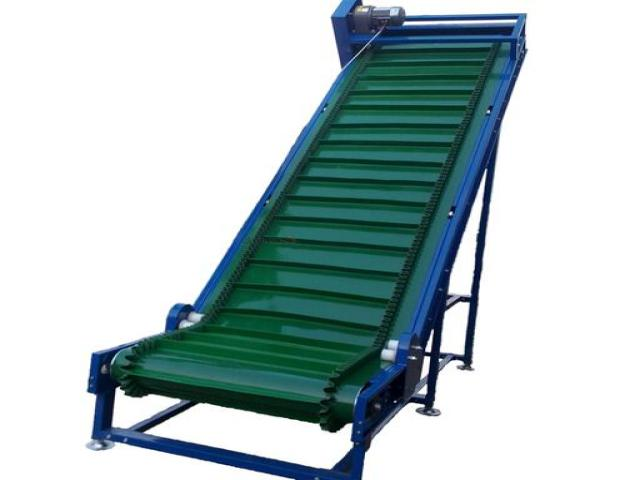conveyor: (82, 0, 532, 479)
